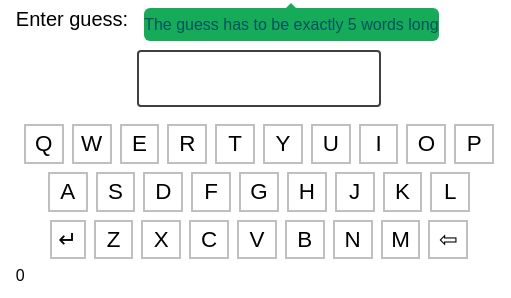
Test case: GuessBar › should add letter to guess when keyboard letter is clicked
The image size is (511, 298).
Click the text "W" at (92, 144), box [72,124,112,164]
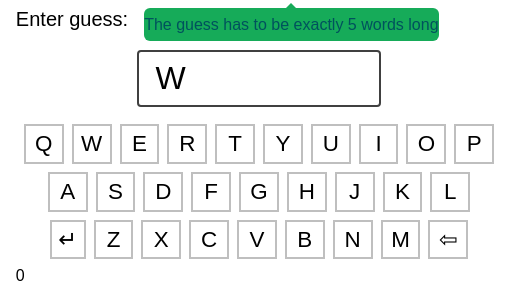
Check: the field holds "W", box [137,50,381,107]
